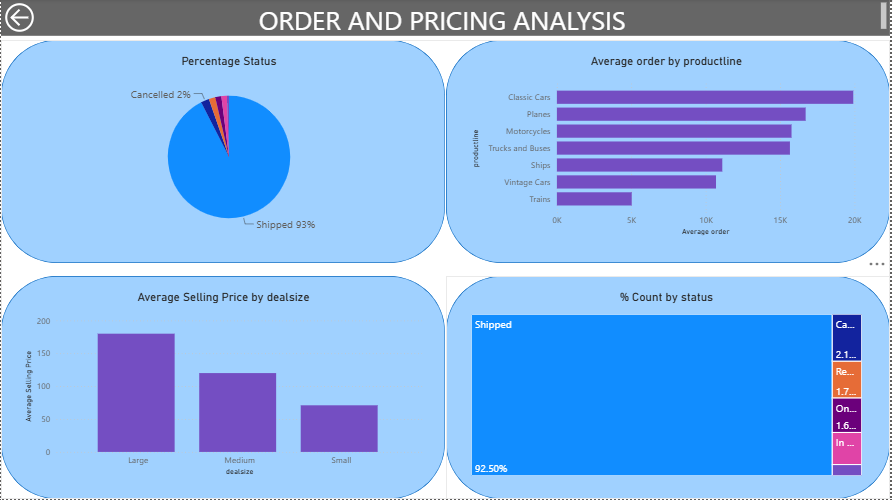

Layout of this report page (visuals, bound fields, positions):
{"tool":"powerbi","page":{"name":"Order Analysis","canvas":[1280,720],"ordinal":4},"visuals":[{"type":"group","id":"g1","title":"Group 1","box":[0,59,1280.2,661],"z":0},{"type":"shape","box":[0,59,639.4,321.1],"z":0,"group":"g1"},{"type":"shape","box":[640.8,398.8,639.4,321.1],"z":1000,"group":"g1"},{"type":"textbox","box":[0,0,1280.2,53.3],"z":2000},{"type":"shape","box":[0,398.8,639.4,321.1],"z":2000,"group":"g1"},{"type":"shape","box":[640.8,59,639.4,321.1],"z":3000,"group":"g1"},{"type":"pieChart","title":"Percentage Status","fields":{"Category":["FactSales.status"],"Y":["CountNonNull(FactSales.status)"]},"box":[57.6,79.2,541.4,266.4],"z":3000},{"type":"columnChart","fields":{"Category":["FactSales.dealsize"],"Y":["Datetable.Average Selling Price"]},"box":[28.8,419,583.2,272.2],"z":4000},{"type":"barChart","fields":{"Category":["FactSales.productline"],"Y":["Datetable.Average order value"]},"box":[672.5,79.2,571.7,266.4],"z":5000},{"type":"treemap","title":"% Count  by status","fields":{"Group":["FactSales.status"],"Values":["CountNonNull(FactSales.status)"]},"box":[672.5,419,571.7,272.2],"z":6000},{"type":"actionButton","box":[0,0,115.2,53.3],"z":7000}]}

Visuals, with their boxes in screenshot pixels (x1, y1, x2, y2), scaled from the page's 1280x720 canvas onto the 893x500 screenshot:
"Group 1" group: x1=0 y1=41 x2=892 y2=499
shape: x1=0 y1=41 x2=446 y2=264
shape: x1=447 y1=277 x2=892 y2=499
textbox: x1=0 y1=0 x2=892 y2=37
shape: x1=0 y1=277 x2=446 y2=499
shape: x1=447 y1=41 x2=892 y2=264
"Percentage Status" pieChart: x1=40 y1=55 x2=418 y2=240
columnChart - FactSales.dealsize x Datetable.Average Selling Price: x1=20 y1=291 x2=427 y2=480
barChart - FactSales.productline x Datetable.Average order value: x1=469 y1=55 x2=868 y2=240
"% Count  by status" treemap: x1=469 y1=291 x2=868 y2=480
actionButton: x1=0 y1=0 x2=80 y2=37
